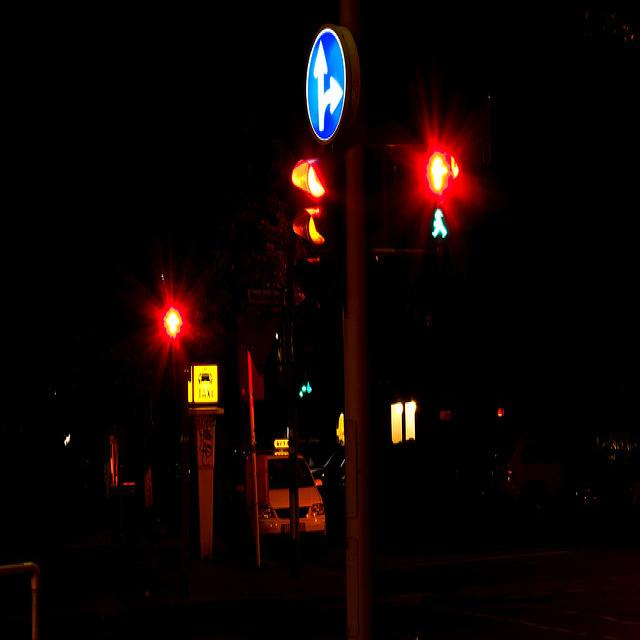Car: (245, 422, 337, 554)
